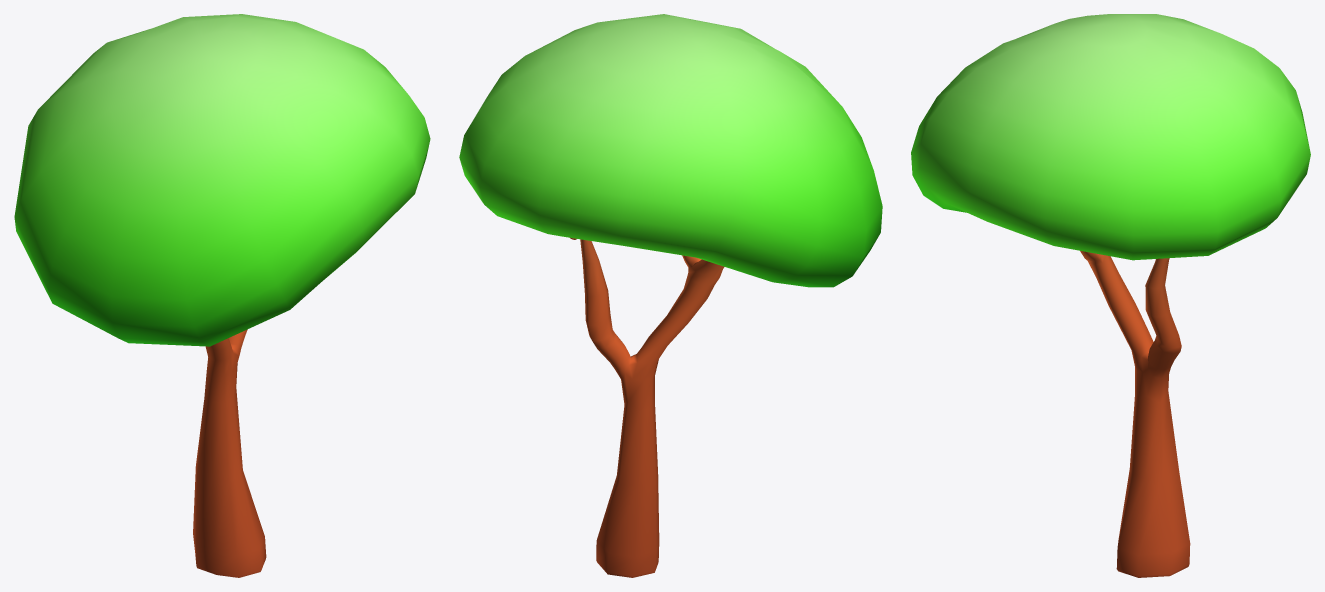
The model's file is Tree_06.fbx.
3 renders of one model, left to right at view 1: azimuth 30°, elevation 25°; view 2: azimuth 150°, elevation 25°; view 3: azimuth 270°, elevation 25°, orthographic. The views are drawn at different scales.
Parts seen in each view (by area): view 1: Tree_06; view 2: Tree_06; view 3: Tree_06.
Part boxes in pixels (x1,y1,x2,y2): Tree_06: [14, 14, 430, 577]; Tree_06: [459, 14, 882, 577]; Tree_06: [911, 14, 1310, 577].
Bounding box in the file's own units: 280 × 383 × 266.
